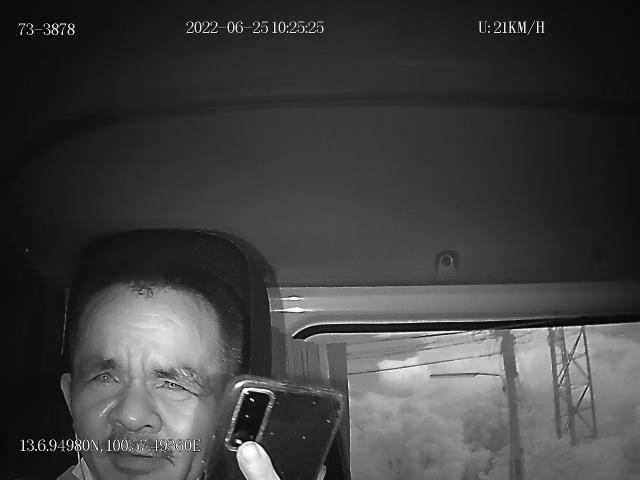PhoneUse: (207, 376, 346, 480)
SafeDriving: (146, 364, 196, 400), (80, 358, 126, 394)
